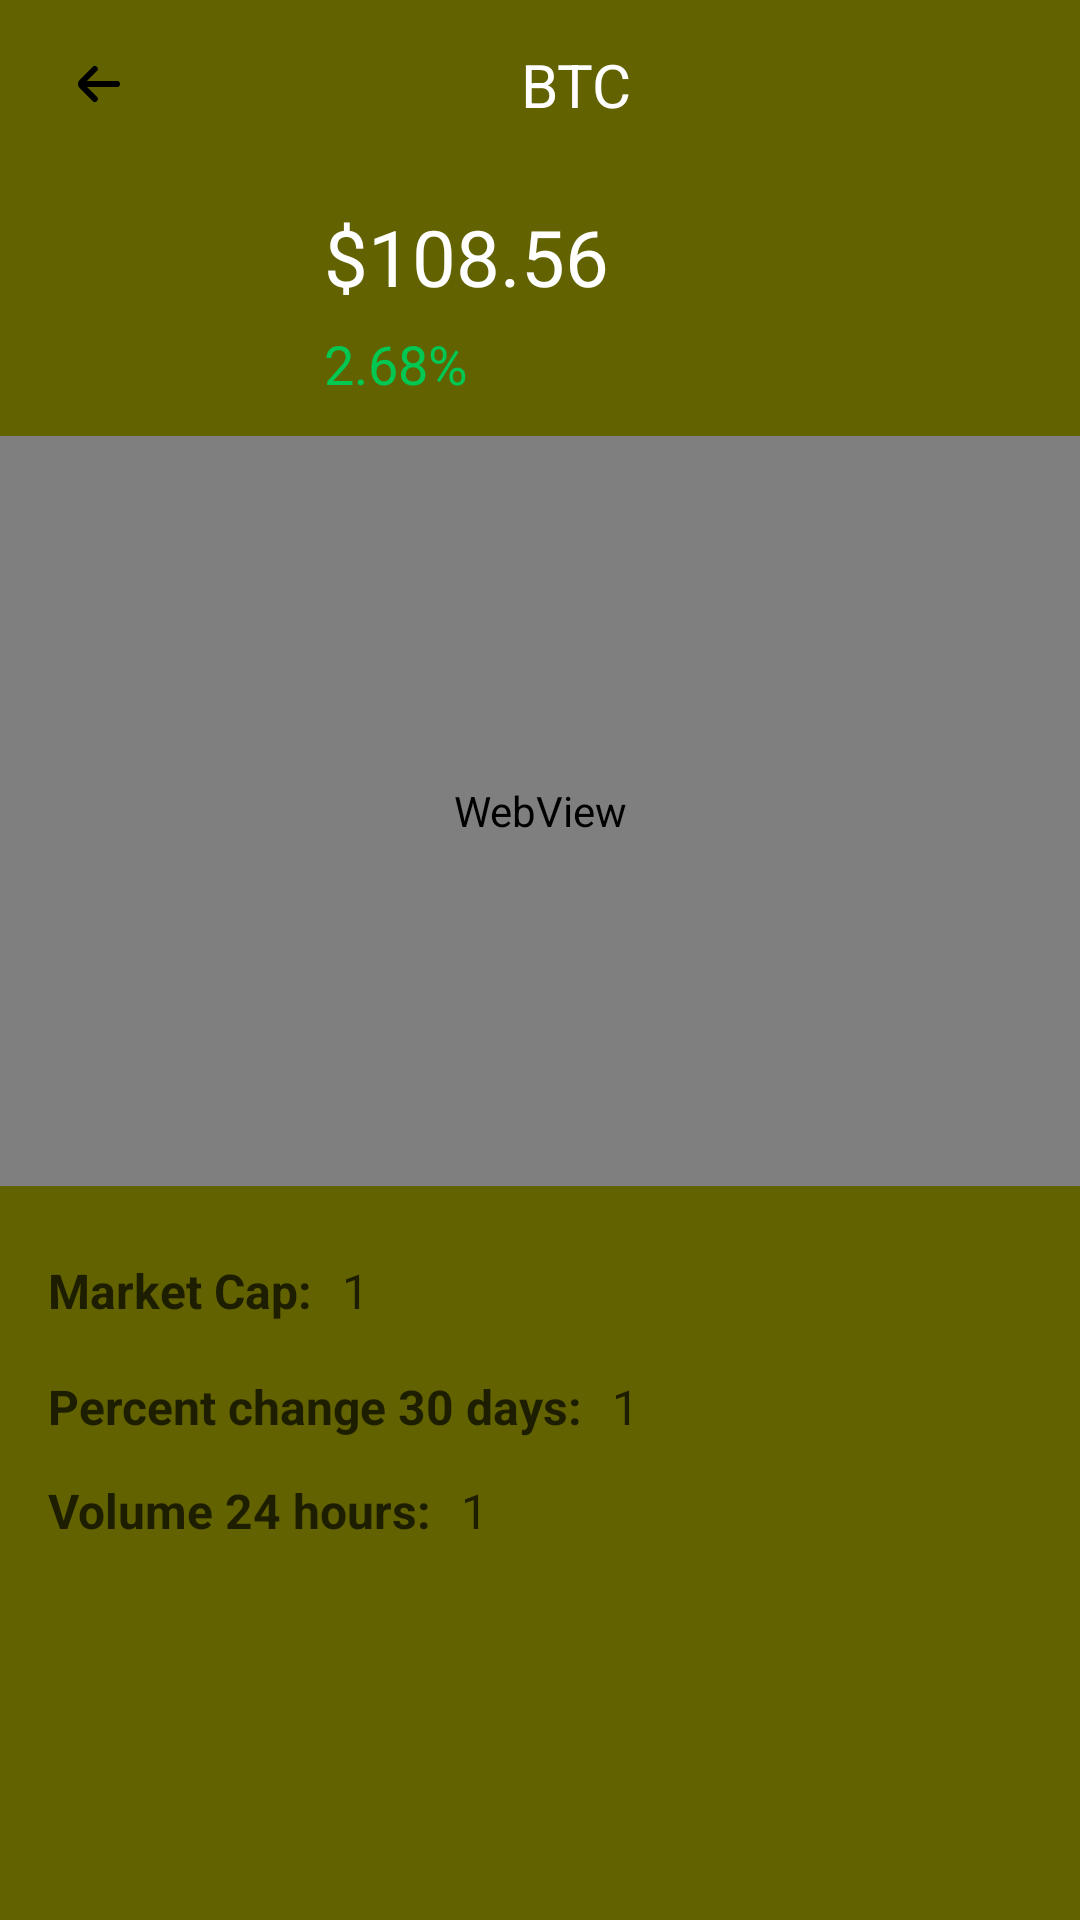

Icons on this 1080×1920 Android screen, each with the point to tap as [x,y]:
back: [99,84]
